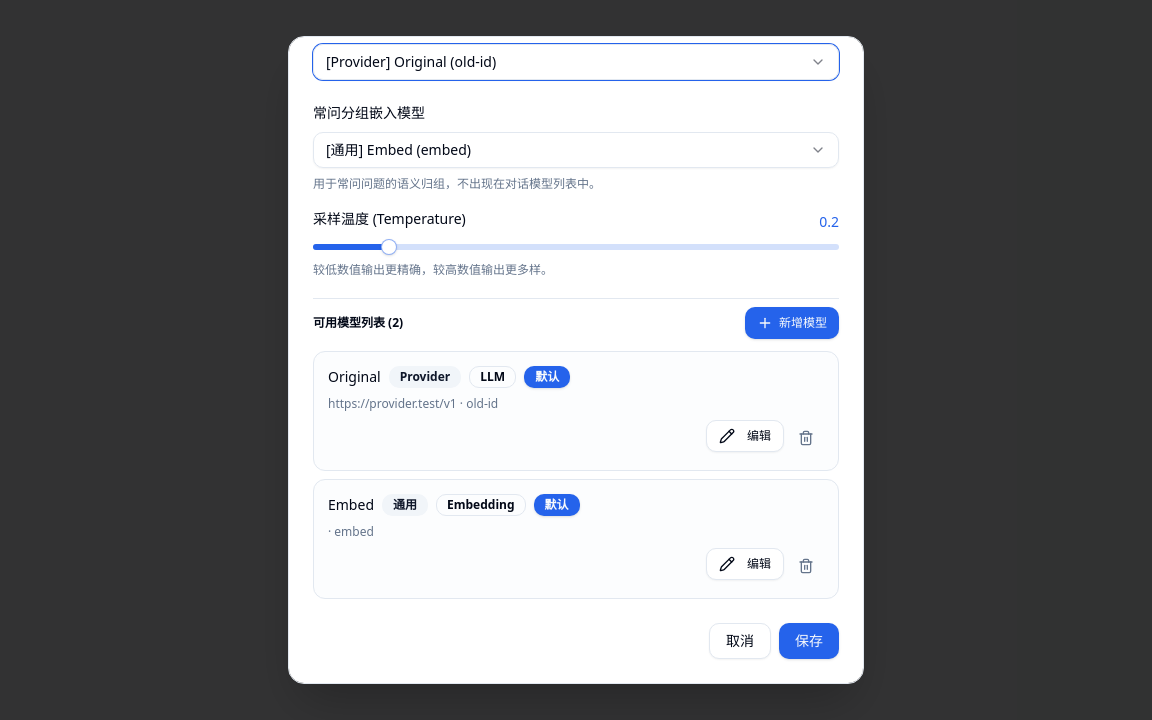
Scenario: shadcn model configuration › keeps the form and shows failures when saving fails
(page scrolled)
Click the button "保存" at (809, 641), box [779,623,839,659]
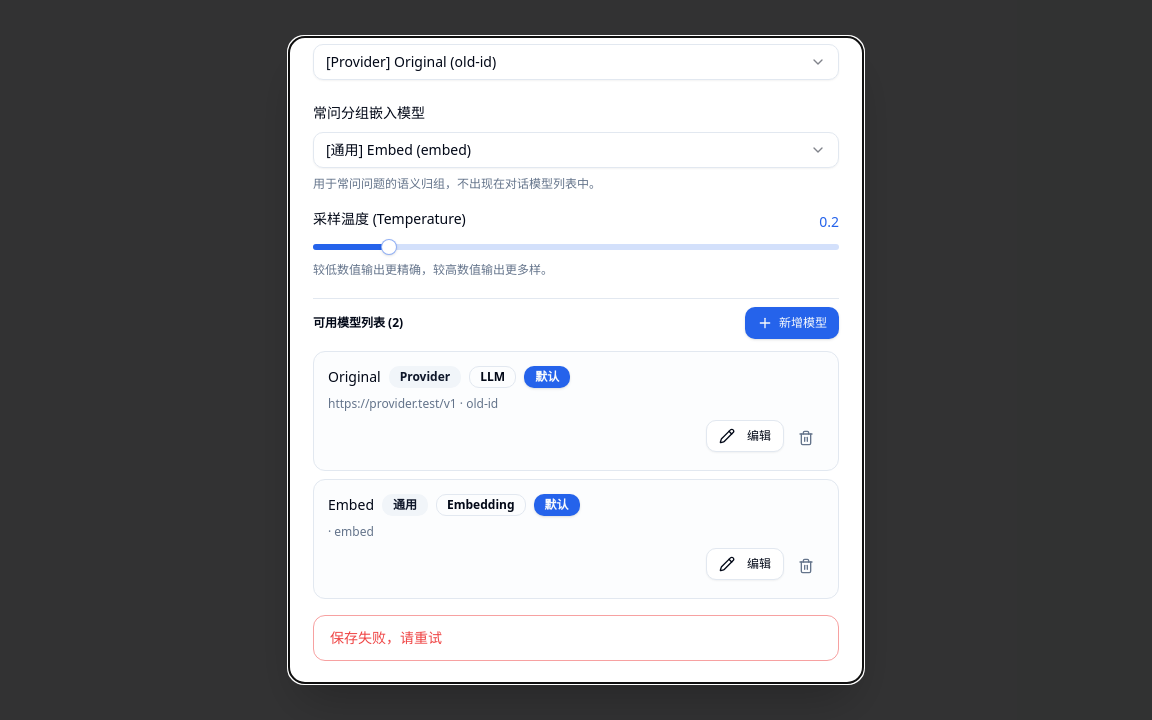
Expected: the dialog is shown, [288,36,864,684]
Expected: the message reads "保存失败，请重试", [330,628,442,647]
